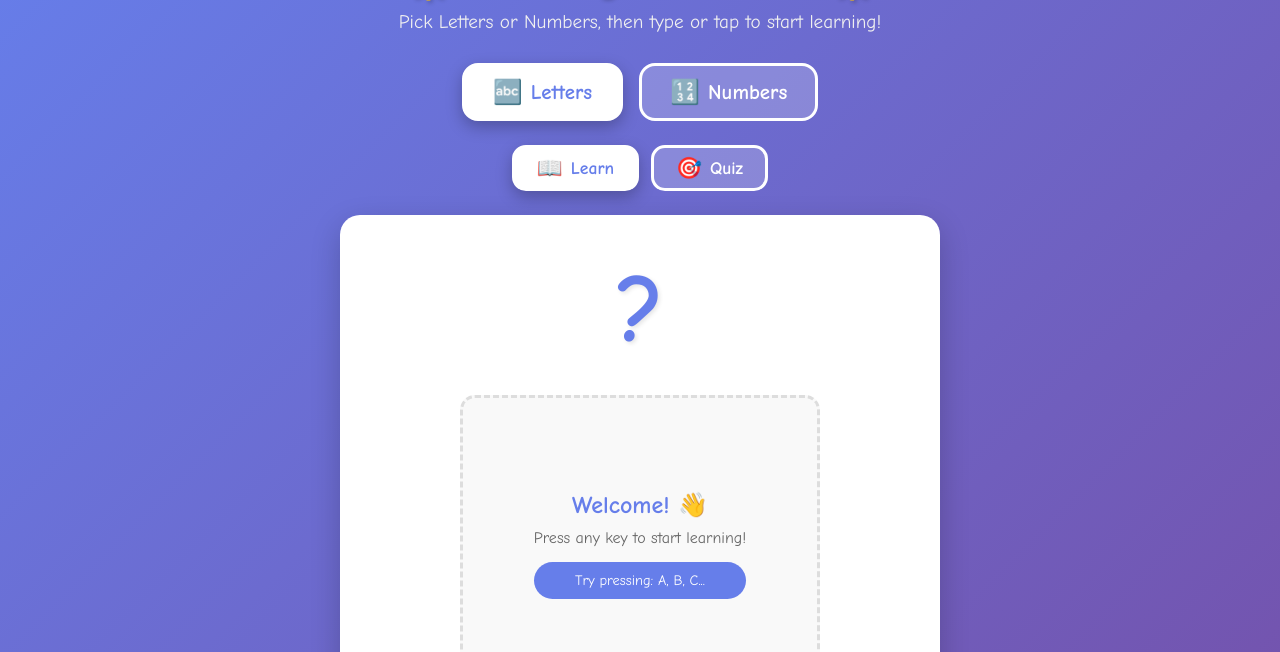
Numbers Learning Mode › Progress › shows 10% after learning one of ten numbers
The image size is (1280, 652).
Click the tab "🔢 Numbers" at (729, 92), box [639,63,818,121]
(page scrolled)
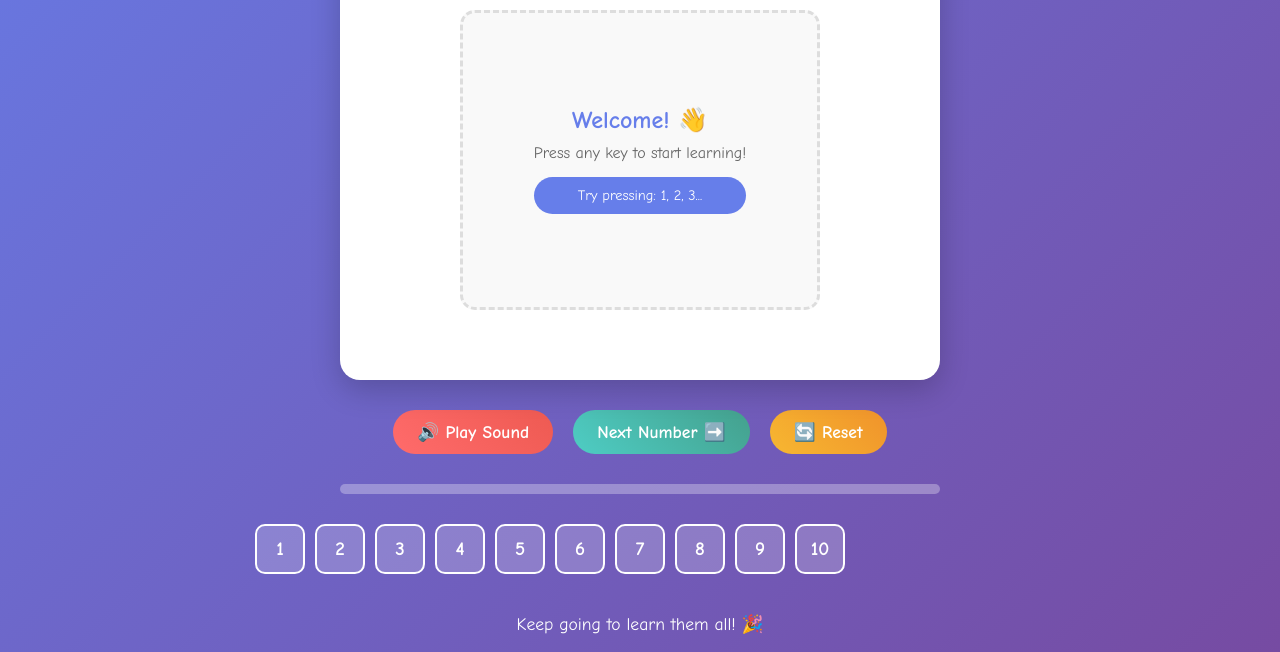
Click the button named "Number 4" at (460, 549), box [435,524,485,574]
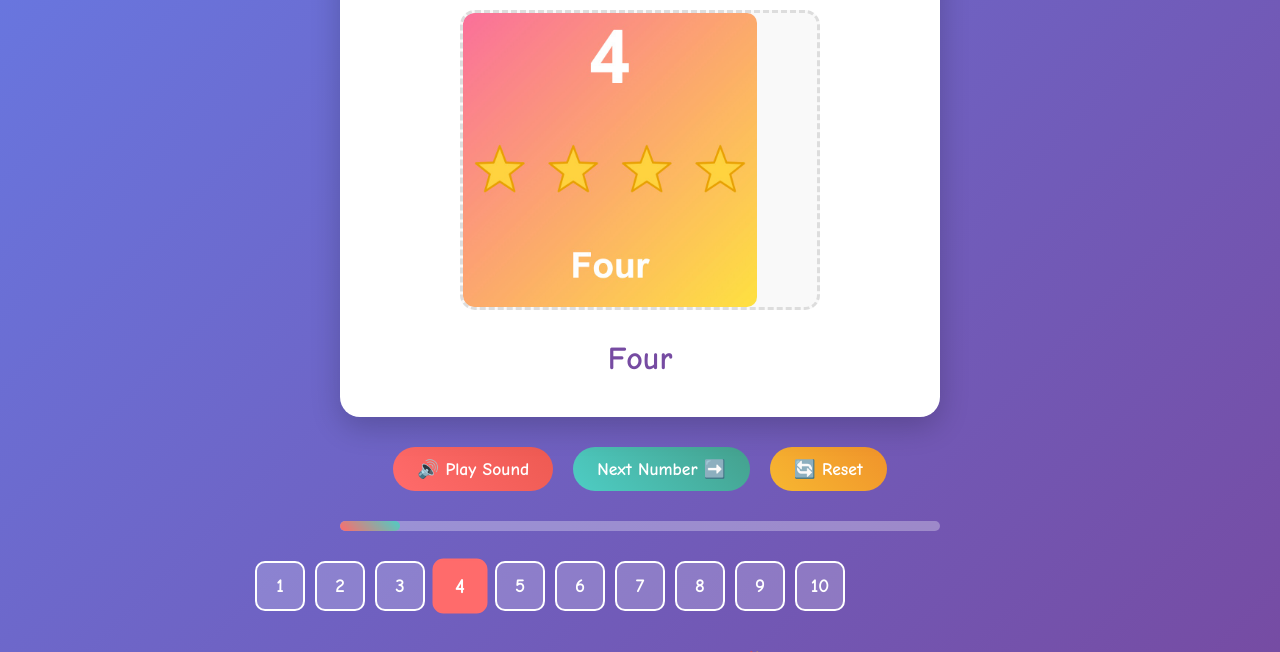
Check: the element named "10% of numbers learned" is shown, box [340,521,400,531]
